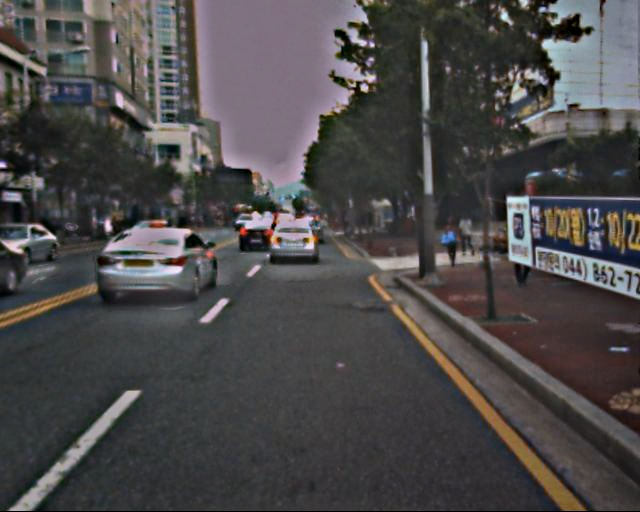person: (507, 217, 537, 290), (441, 220, 462, 271), (457, 210, 477, 258)
